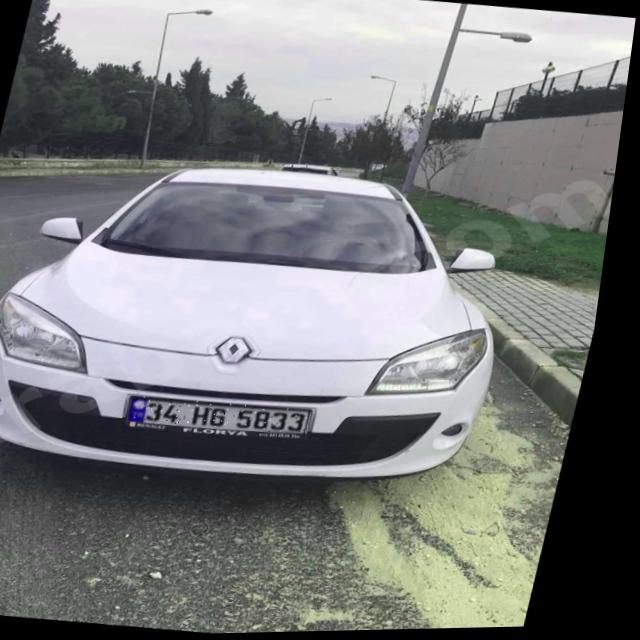license_plate: (133, 393, 324, 440)
